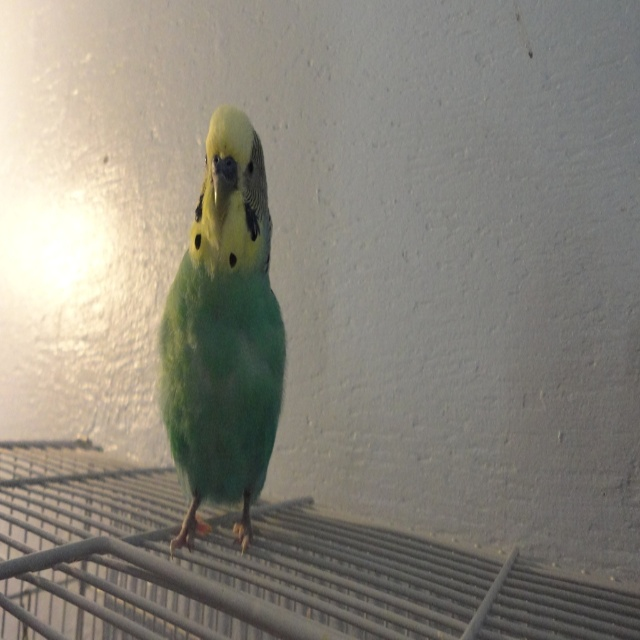Parrot: (153, 98, 287, 560)
